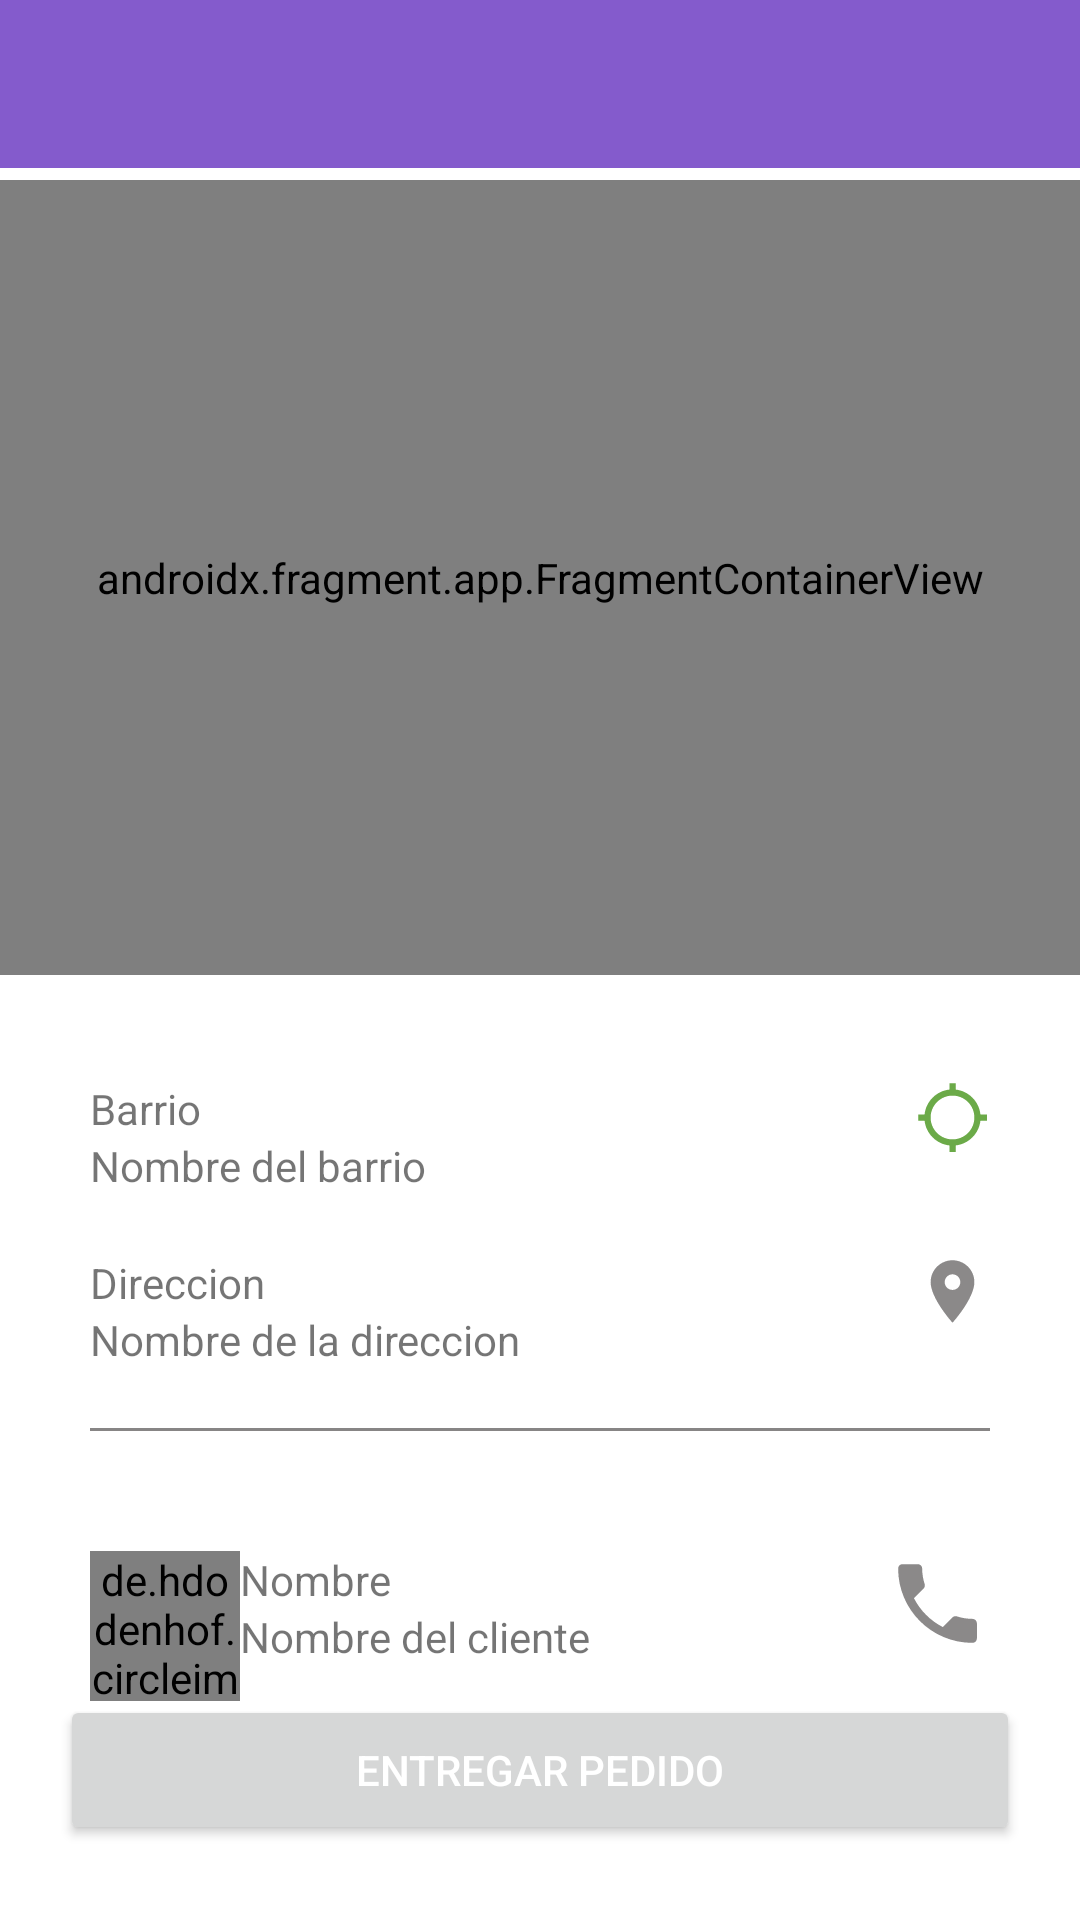

Icon click points for this 1080x1920 phone screenshot, format (x,y):
location: (952,1117)
location on: (952,1291)
phone: (937,1603)
